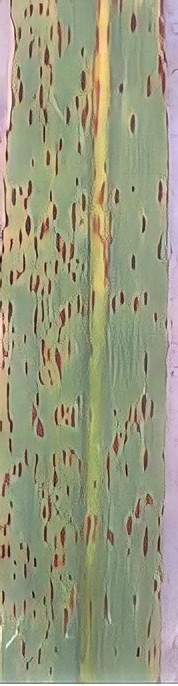Bercak Coklat: (125, 110, 143, 142), (139, 523, 153, 562), (27, 400, 41, 434), (55, 303, 66, 342), (137, 207, 149, 239), (68, 198, 78, 236), (19, 211, 34, 236), (125, 250, 141, 273), (140, 347, 151, 379), (139, 447, 153, 472), (55, 525, 69, 549), (127, 9, 139, 35), (35, 417, 47, 442), (131, 496, 143, 521), (24, 106, 37, 129), (139, 286, 152, 309), (153, 176, 164, 203), (141, 486, 155, 507), (112, 79, 129, 96), (110, 183, 122, 207), (77, 191, 89, 215), (62, 100, 73, 126), (144, 74, 155, 100), (67, 266, 82, 285), (137, 391, 147, 418), (76, 66, 87, 90), (21, 445, 32, 469), (20, 249, 29, 278), (6, 296, 15, 324), (116, 287, 128, 308), (63, 22, 73, 47), (105, 529, 116, 551), (25, 35, 35, 59), (50, 199, 60, 223), (73, 290, 82, 316), (16, 81, 26, 104), (111, 429, 119, 457), (6, 268, 17, 288), (20, 558, 29, 582), (130, 292, 140, 313), (36, 82, 44, 108), (41, 523, 49, 549), (51, 404, 60, 427), (51, 465, 60, 488), (37, 216, 45, 241), (40, 123, 49, 145), (8, 185, 17, 207), (121, 460, 132, 478), (125, 516, 134, 538), (74, 138, 84, 157), (25, 176, 34, 197), (55, 133, 66, 150), (14, 22, 24, 40), (109, 295, 118, 315), (21, 356, 30, 376), (42, 41, 49, 66), (21, 193, 30, 212), (40, 259, 49, 278), (53, 230, 61, 251), (60, 237, 66, 265), (65, 299, 73, 320), (19, 331, 31, 345), (27, 1, 36, 19), (15, 461, 24, 479), (43, 149, 52, 166), (44, 278, 53, 294), (14, 63, 22, 80), (1, 482, 10, 497), (37, 2, 45, 16), (5, 510, 12, 526)
